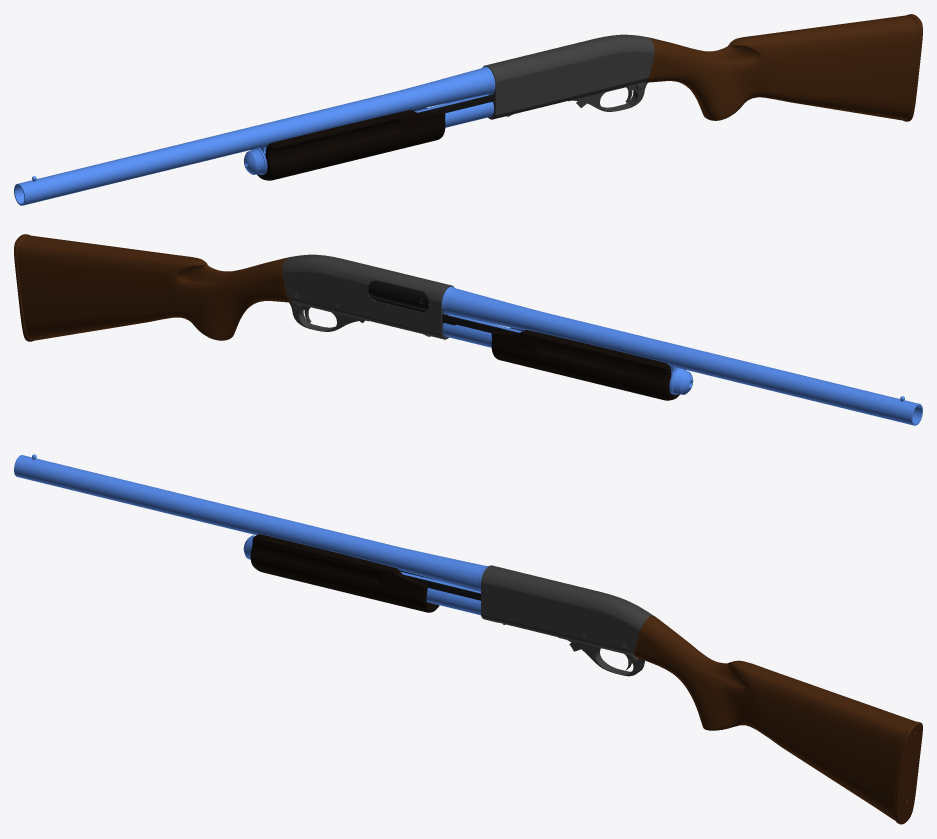
File: remington-870-wingmaster-1978.obj
3 views of the same model, one above another, from view 1: azimuth 30°, elevation 25°; view 2: azimuth 150°, elevation 25°; view 3: azimuth 330°, elevation 25° (orthographic).
Visible parts, largest first — view 1: R870_GunButt_WM2, R870_BarrelMag_B20M4_WM, R870_Base, R870_HandGuard_WM2, R870_mechanism; view 2: R870_GunButt_WM2, R870_BarrelMag_B20M4_WM, R870_Base, R870_HandGuard_WM2, R870_mechanism; view 3: R870_GunButt_WM2, R870_BarrelMag_B20M4_WM, R870_Base, R870_HandGuard_WM2.
Boxes of the visible parts, x1,y1,x2,y2 form: R870_GunButt_WM2: (645, 14, 922, 121); R870_BarrelMag_B20M4_WM: (14, 66, 495, 205); R870_Base: (483, 34, 654, 119); R870_HandGuard_WM2: (251, 107, 445, 180); R870_mechanism: (419, 94, 494, 113); R870_GunButt_WM2: (14, 234, 291, 341); R870_BarrelMag_B20M4_WM: (428, 286, 922, 425); R870_Base: (282, 254, 453, 339); R870_HandGuard_WM2: (491, 327, 685, 400); R870_mechanism: (368, 280, 517, 333); R870_GunButt_WM2: (634, 615, 922, 824); R870_BarrelMag_B20M4_WM: (14, 454, 488, 615); R870_Base: (481, 565, 652, 676); R870_HandGuard_WM2: (250, 534, 439, 612).
Size of the model in its own units: 1 by 0.1665 by 0.042.
